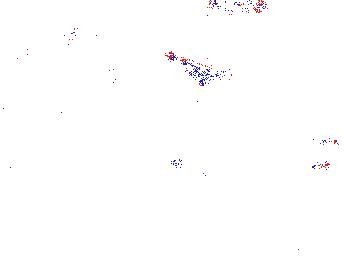red belly glassfish: (296, 159, 336, 176), (304, 134, 340, 150)
redtail glassfish: (163, 47, 234, 87), (16, 25, 82, 64), (105, 58, 182, 87), (210, 1, 268, 17)
